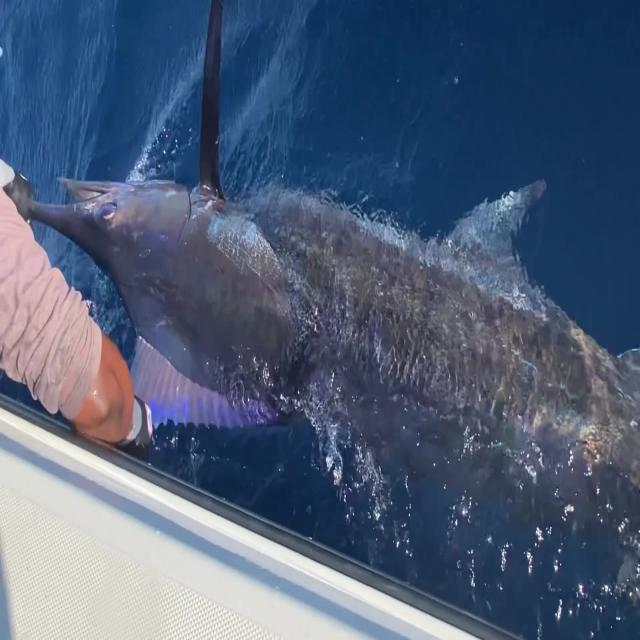Liberacion segura: (25, 2, 640, 607)
